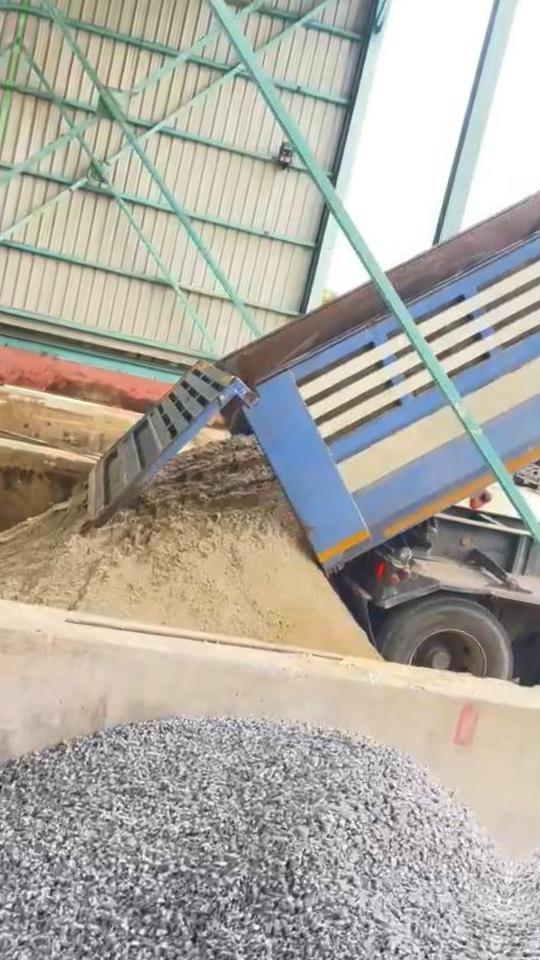gravel: (0, 719, 510, 960)
sand: (0, 437, 376, 657)
